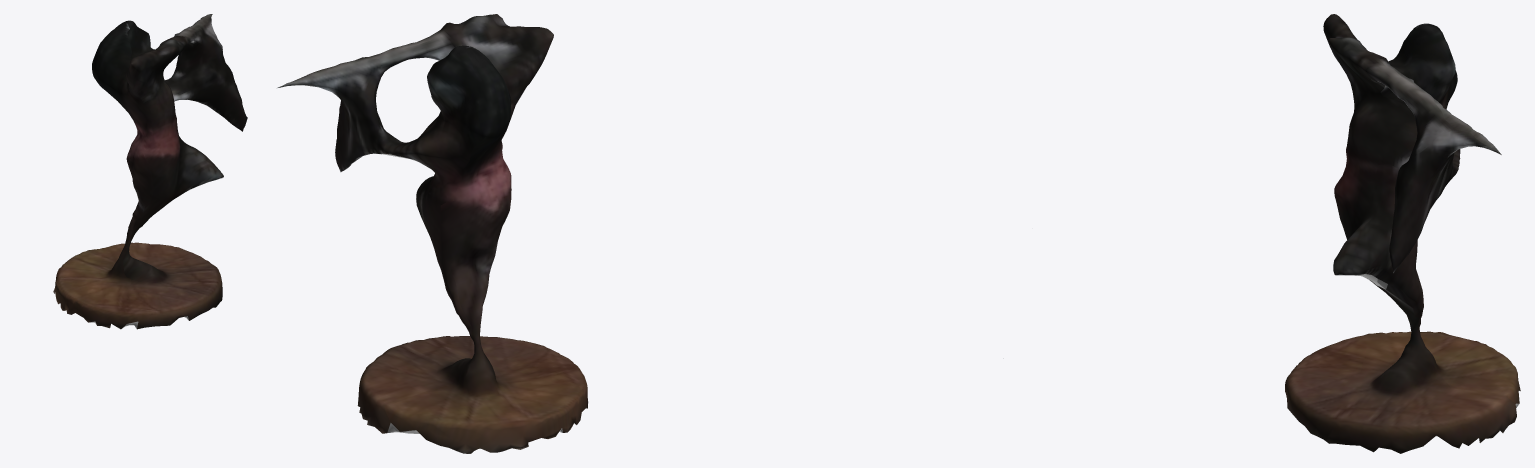
The model's file is Eltahale.obj.
3 renders of one model, left to right at view 1: azimuth 30°, elevation 25°; view 2: azimuth 150°, elevation 25°; view 3: azimuth 270°, elevation 25°, orthographic. The views are drawn at different scales.
Size of the model in its own units: 12.62 by 8.88 by 10.36.
